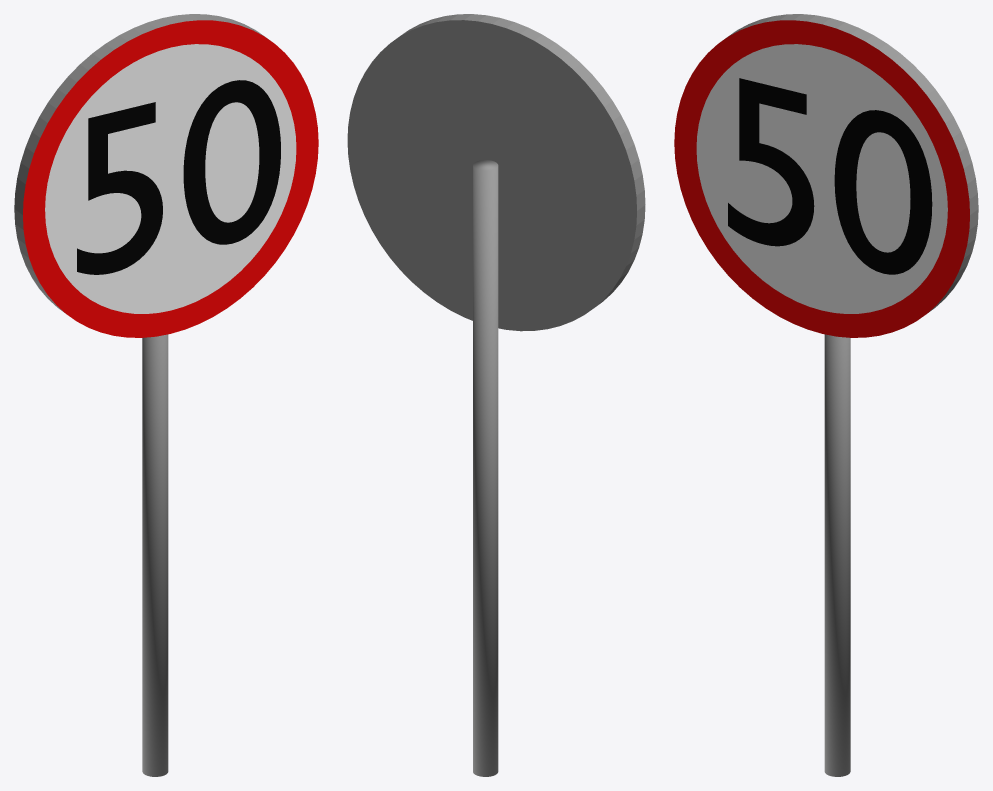
The model's file is speed_limit_sign_50.dae.
3 renders of one model, left to right at view 1: azimuth 30°, elevation 25°; view 2: azimuth 150°, elevation 25°; view 3: azimuth 330°, elevation 25°, orthographic. The views are drawn at different scales.
Parts seen in each view (by area): view 1: Cylinder.001, Cylinder; view 2: Cylinder.001, Cylinder; view 3: Cylinder.001, Cylinder.
Boxes of the visible parts, box(x1,y1,x2,y2) form: Cylinder.001: box(14, 14, 318, 337); Cylinder: box(142, 334, 168, 776); Cylinder.001: box(347, 14, 645, 331); Cylinder: box(473, 160, 498, 776); Cylinder.001: box(674, 14, 978, 337); Cylinder: box(824, 334, 850, 776).
Bounding box in the file's own units: 1 × 0.129 × 2.45.
